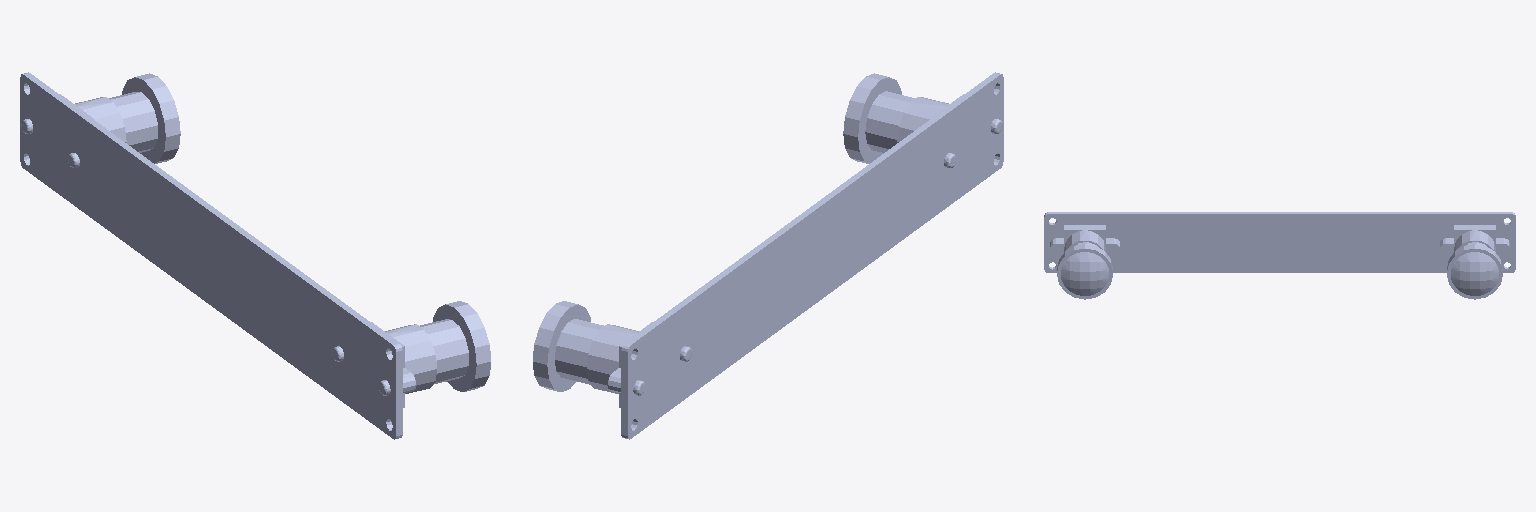
The robot description file, URDF, robot "mynteye":
<?xml version="1.0"?>
<robot name="mynteye">
  <link name="mynteye">
   <inertial>
      <origin
        xyz="1.8066E-07 -0.013922 -5.14669999914755E-09"
        rpy="0 0 0" />
      <mass
        value="0.011423" />
      <inertia
        ixx="1.02528087587849E-06"
        ixy="-2.77738904265723E-11"
        ixz="-2.5418963856357E-12"
        iyy="3.33817433207942E-05"
        iyz="-7.17759958750659E-13"
        izz="3.39466645935057E-05" />
    </inertial>
    <visual>
      <origin
        xyz="0 0 0"
        rpy="1.5707963267949 0 1.5707963267949" />
      <geometry>
        <mesh
          filename="package://mynteye_ros_wrapper/urdf/double-camera-mynt1.STL" />
      </geometry>
      <material
        name="">
        <color
          rgba="0.79216 0.81961 0.93333 1" />
      </material>
    </visual>
    <collision>
      <origin
        xyz="0 0 0"
        rpy="1.5707963267949 0 0" />
      <geometry>
        <mesh
          filename="package://mynteye_ros_wrapper/urdf/double-camera-mynt1.STL" />
      </geometry>
    </collision>
  </link>

  <link name="mynt_imu_frame" />
  <link name="mynt_left_frame" />
  <link name="mynt_right_frame" />
  <link name="mynt_depth_frame" />




<joint name="imu_link_joint" type="fixed">
    <parent link="mynteye" />
    <child link="mynt_imu_frame" />
    <origin xyz="0 0 0" />
  </joint>

  <joint name="image_left_joint" type="fixed">
    <parent link="mynteye" />
    <child link="mynt_left_frame" />
    <origin xyz="0 0.06 0" />
  </joint>

  <joint name="image_right_joint" type="fixed">
    <parent link="mynteye" />
    <child link="mynt_right_frame" />
    <origin xyz="0 -0.06 0" rpy="0 0 0"/>
  </joint>
  <joint name="depth_link_joint" type="fixed">
    <parent link="mynteye" />
    <child link="mynt_depth_frame" />
    <origin xyz="0 0 0" />
  </joint>

</robot>

--- Render facts (derived) ---
The picture shows the robot from 3 angles, left to right: view 1: azimuth 30°, elevation 25°; view 2: azimuth 150°, elevation 25°; view 3: azimuth 270°, elevation 25°; orthographic projection.
Robot: mynteye — 5 links, 4 joints (4 fixed); root link mynteye; default pose: every joint at zero.
Visible links, largest first — view 1: mynteye; view 2: mynteye; view 3: mynteye.
Link boxes in pixels (x1=…): mynteye: x1=20, y1=72, x2=490, y2=439; mynteye: x1=533, y1=72, x2=1003, y2=439; mynteye: x1=1044, y1=212, x2=1515, y2=299.
Size in the robot's own frame: 0.0265 by 0.145 by 0.02 metres.
1 mesh visuals loaded from 1 distinct referenced files (1 binary STL).